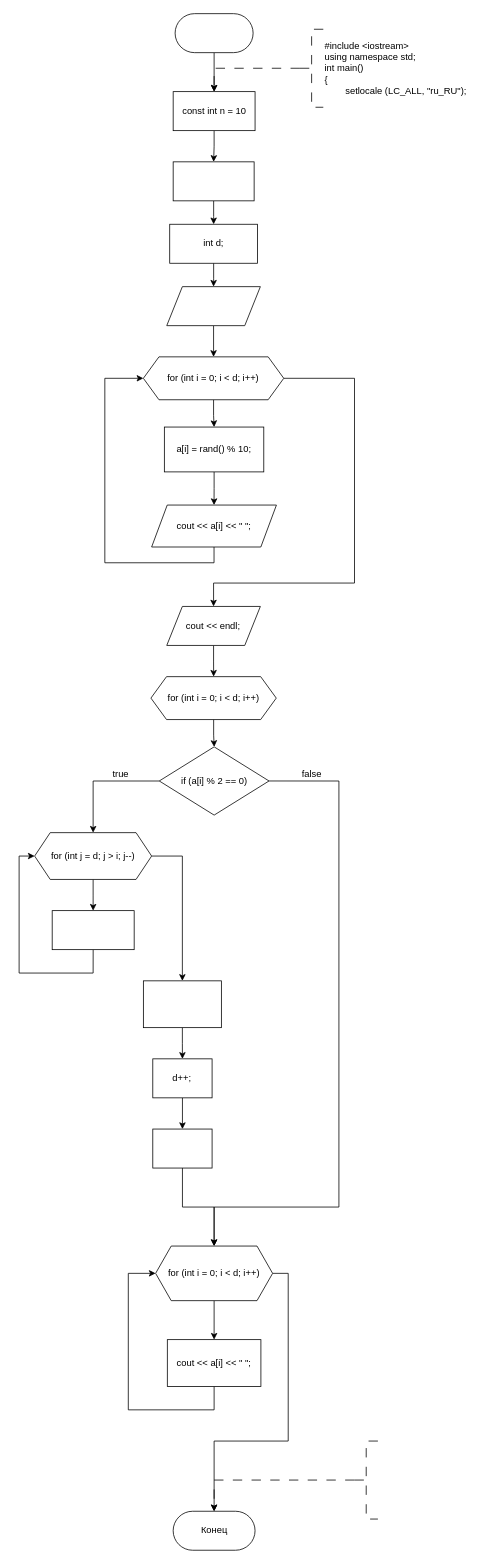
Some shapes in this 480 by 1564 pixel diagram are drawn without their labels. Here are the shapes that lost their labels. From the top down, the box of each, then its label:
(174, 13, 253, 53): Начало
(172, 161, 254, 201): int a[n];
(166, 286, 260, 326): cin >> d;
(51, 910, 134, 950): a[j] = a[j - 1];
(143, 980, 221, 1028): a[i] = -1;
(152, 1128, 212, 1168): i++;
(354, 1440, 378, 1519): return 0; }
